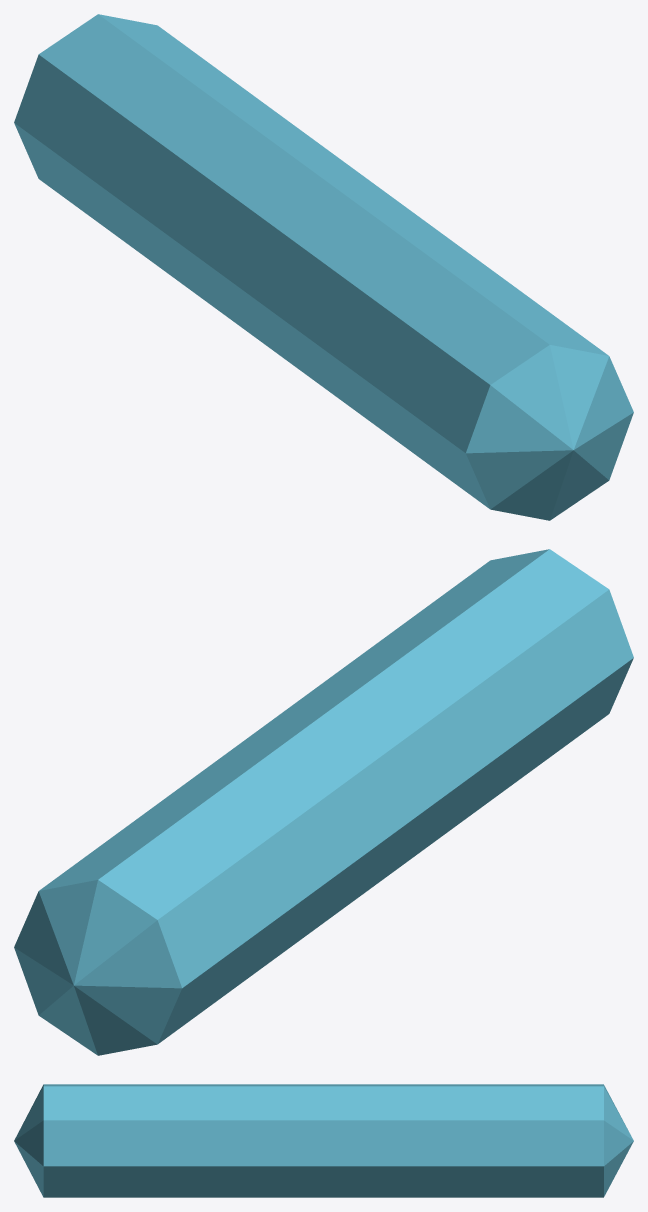
The model's file is blade-baton.glb.
The picture shows the model from 3 angles, top to bottom: view 1: azimuth 30°, elevation 25°; view 2: azimuth 150°, elevation 25°; view 3: azimuth 270°, elevation 25°; orthographic projection. The views are drawn at different scales.
Visible parts, largest first — view 1: m; view 2: m; view 3: m.
Boxes of the visible parts, x1,y1,x2,y2 form: m: (14,14,633,520); m: (14,549,633,1055); m: (14,1084,633,1197).
Size of the model in its own units: 0.016 by 0.016 by 0.0823.
